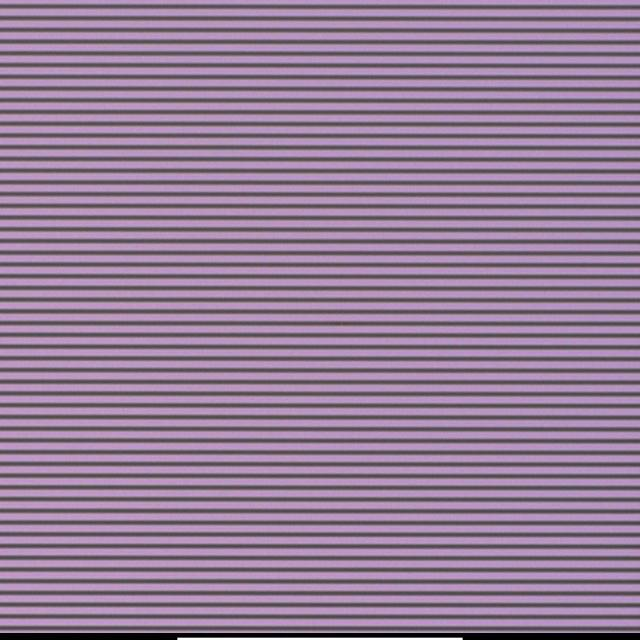03_intrusion: (335, 316, 347, 330)
